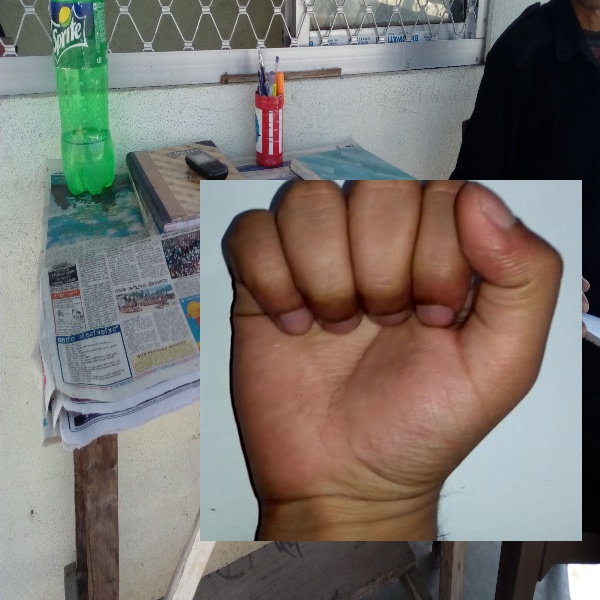A: (200, 180, 582, 541)
